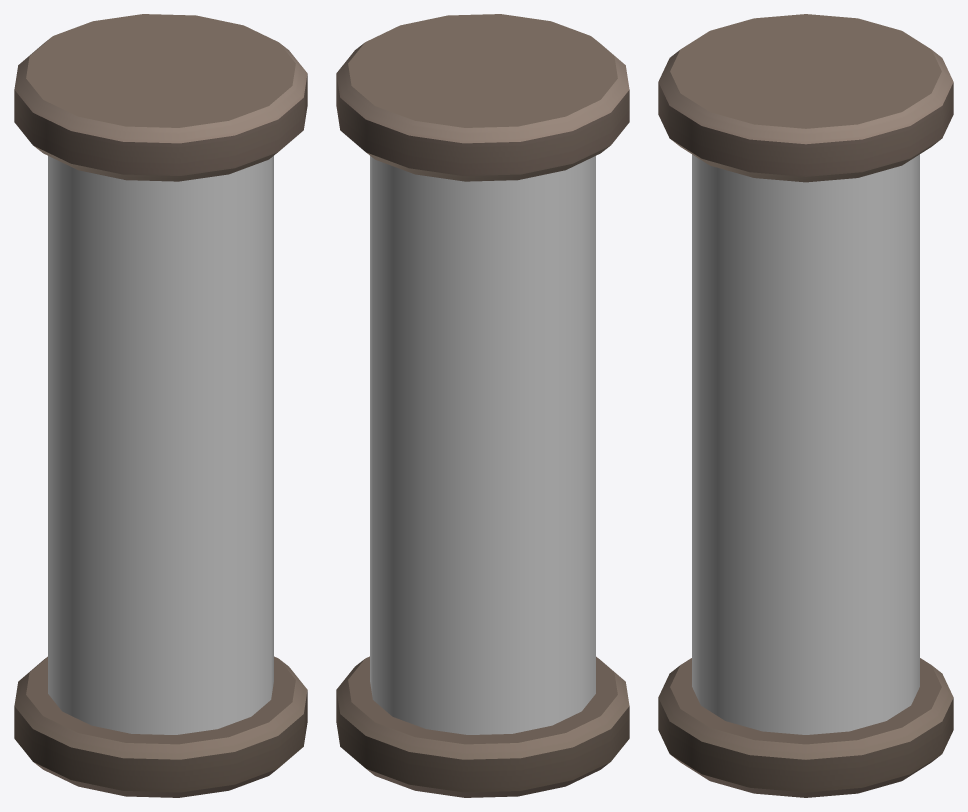
File: hourglass.gltf
3 renders of one model, left to right at view 1: azimuth 30°, elevation 25°; view 2: azimuth 150°, elevation 25°; view 3: azimuth 270°, elevation 25°, orthographic.
Parts seen in each view (by area): view 1: hourglass; view 2: hourglass; view 3: hourglass.
Part boxes in pixels (box(x1,y1,x2,y2)): hourglass: box(14, 14, 307, 797); hourglass: box(336, 14, 629, 797); hourglass: box(658, 14, 953, 797).
Size of the model in its own units: 1 by 2.5 by 1.
Materials: 2 (1 with a texture image).
